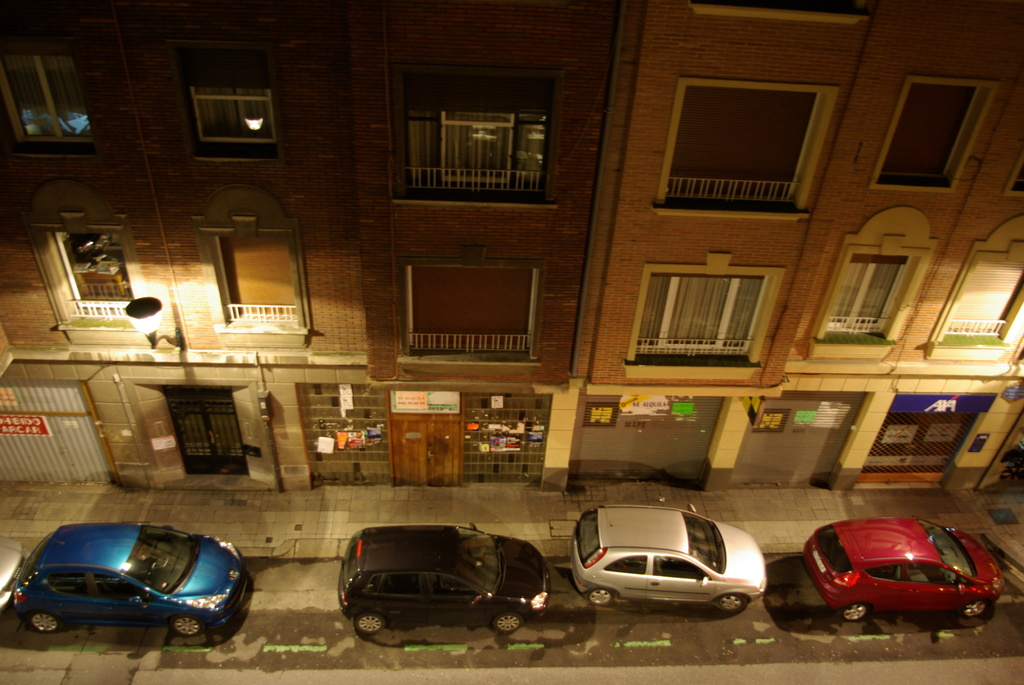mobil: (18, 521, 254, 637), (809, 511, 1013, 634), (332, 523, 548, 639), (560, 502, 772, 619)
